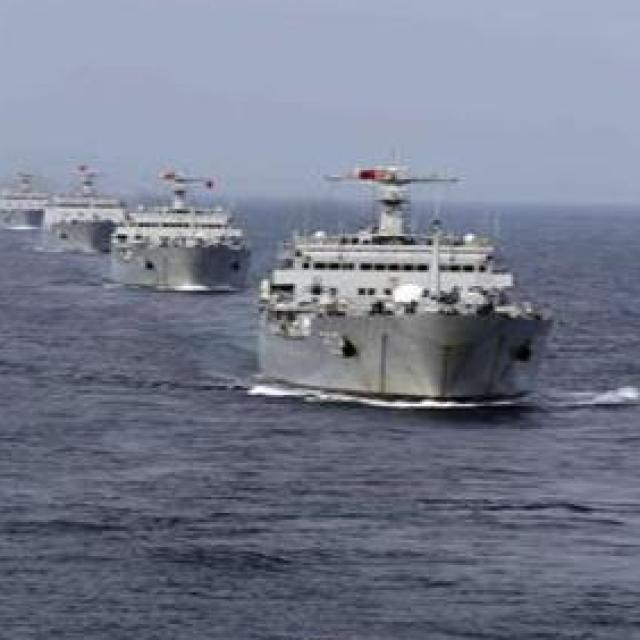navalvessels: (254, 152, 548, 399), (113, 162, 247, 288), (39, 159, 136, 248), (0, 168, 52, 234)
